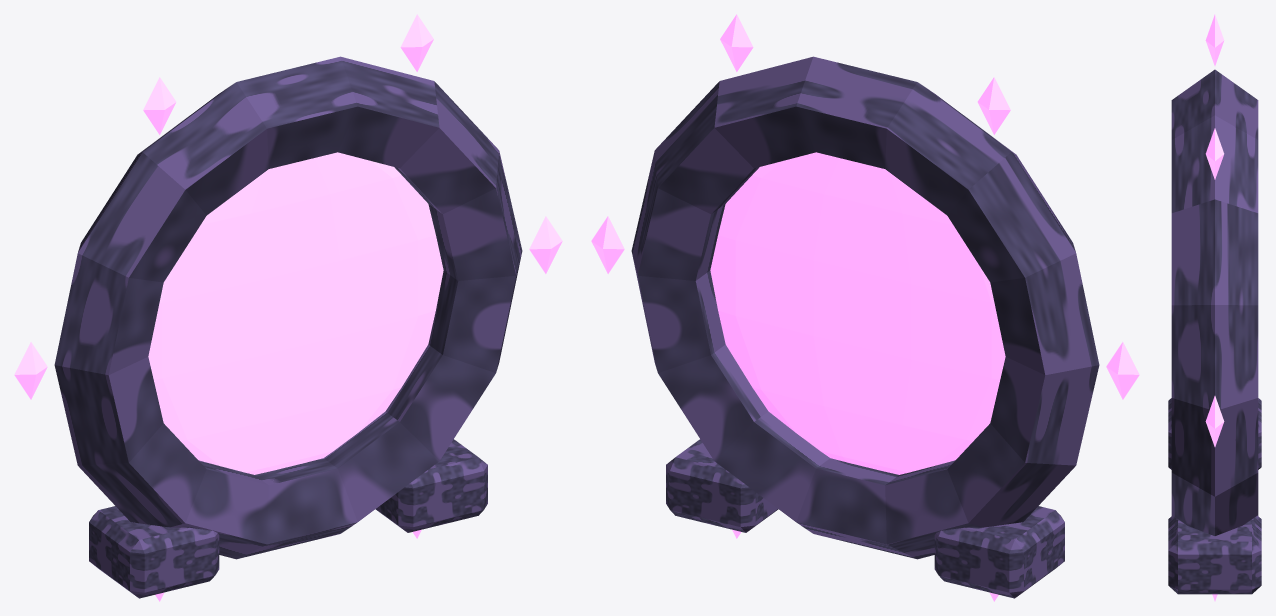
Rendered from NebulaPortal.glb.
3 renders of one model, left to right at view 1: azimuth 30°, elevation 25°; view 2: azimuth 150°, elevation 25°; view 3: azimuth 270°, elevation 25°, orthographic. The views are drawn at different scales.
Parts seen in each view (by area): view 1: NebulaPortal, NebulaPortal_Glow; view 2: NebulaPortal, NebulaPortal_Glow; view 3: NebulaPortal, NebulaPortal_Glow.
Part boxes in pixels (x1,y1,x2,y2): NebulaPortal: (54,56,522,598); NebulaPortal_Glow: (14,14,562,601); NebulaPortal: (631,56,1099,598); NebulaPortal_Glow: (591,14,1139,601); NebulaPortal: (1168,69,1261,594); NebulaPortal_Glow: (1205,14,1224,601).
Bounding box in the file's own units: 4.9 × 4.48 × 0.8.
Materials: 2 (1 with a texture image).
